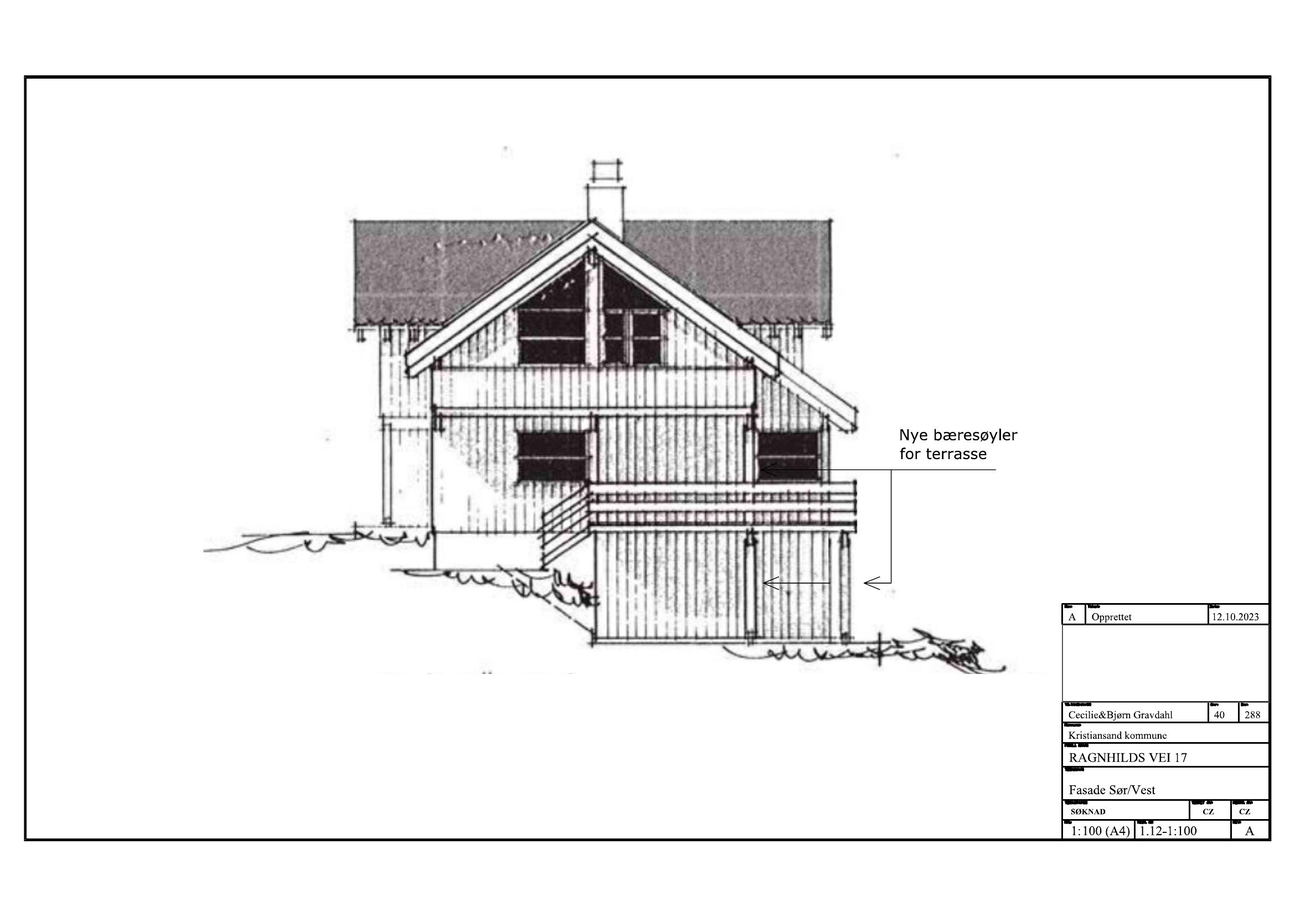fasade: (317, 151, 873, 665)
